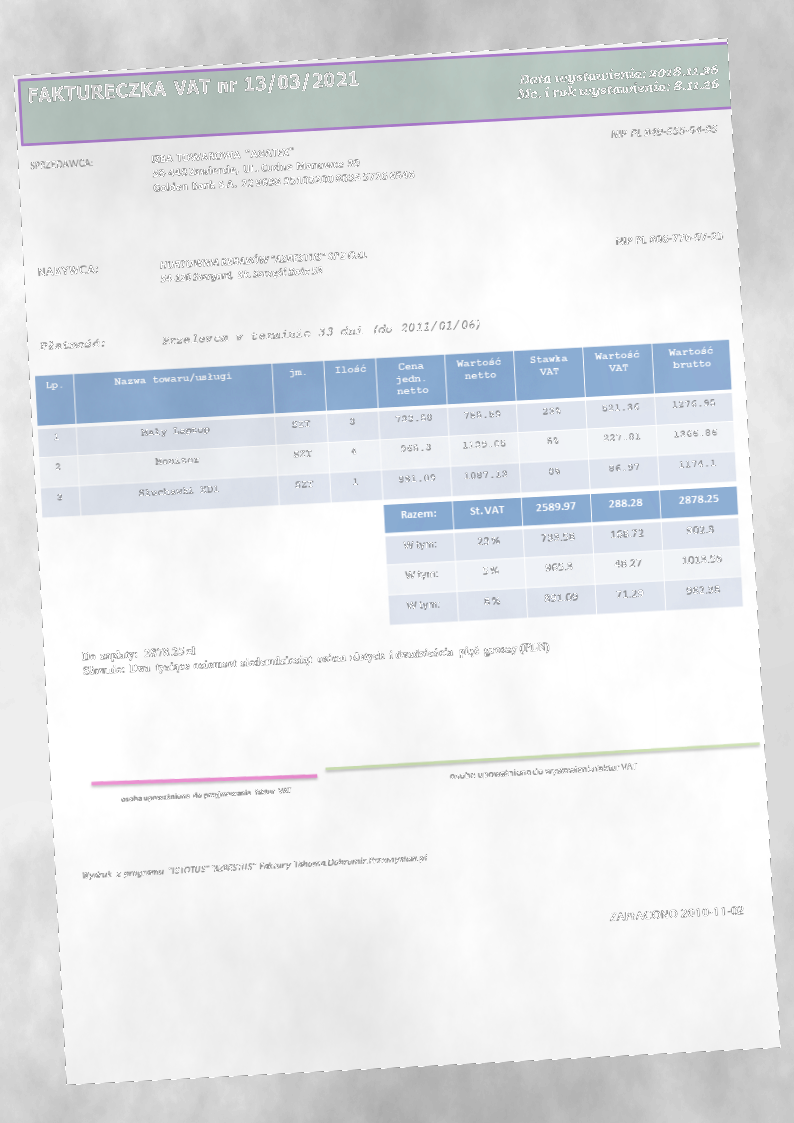Table: (33, 337, 738, 520), (382, 486, 744, 626)
TextBox: (79, 624, 552, 680), (148, 138, 417, 195), (24, 67, 361, 108), (80, 850, 430, 883), (161, 317, 483, 349), (512, 61, 720, 103), (158, 248, 370, 285), (447, 760, 638, 783), (118, 784, 292, 805), (606, 902, 745, 924), (612, 229, 724, 248), (609, 122, 719, 141), (37, 335, 107, 354), (28, 154, 94, 173), (34, 261, 99, 279)
